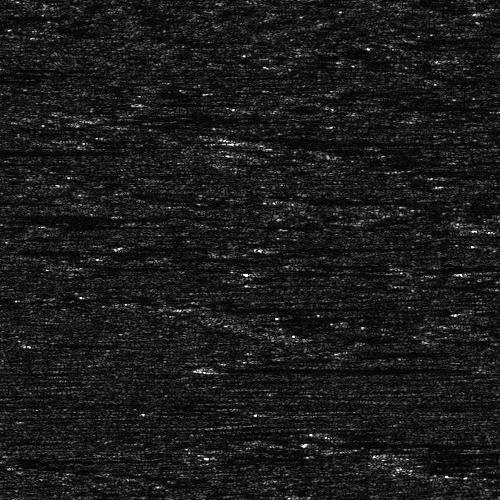rock: (403, 51, 486, 62), (234, 234, 265, 261), (61, 263, 102, 268), (489, 267, 500, 284), (467, 267, 498, 272), (484, 107, 500, 110)
shadow: (250, 234, 317, 261), (0, 247, 105, 256), (82, 263, 211, 268), (445, 51, 500, 62)
